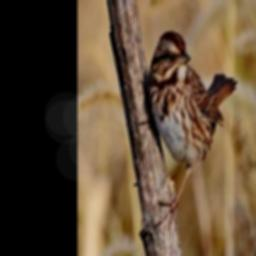Sparrow: (145, 27, 239, 230)
